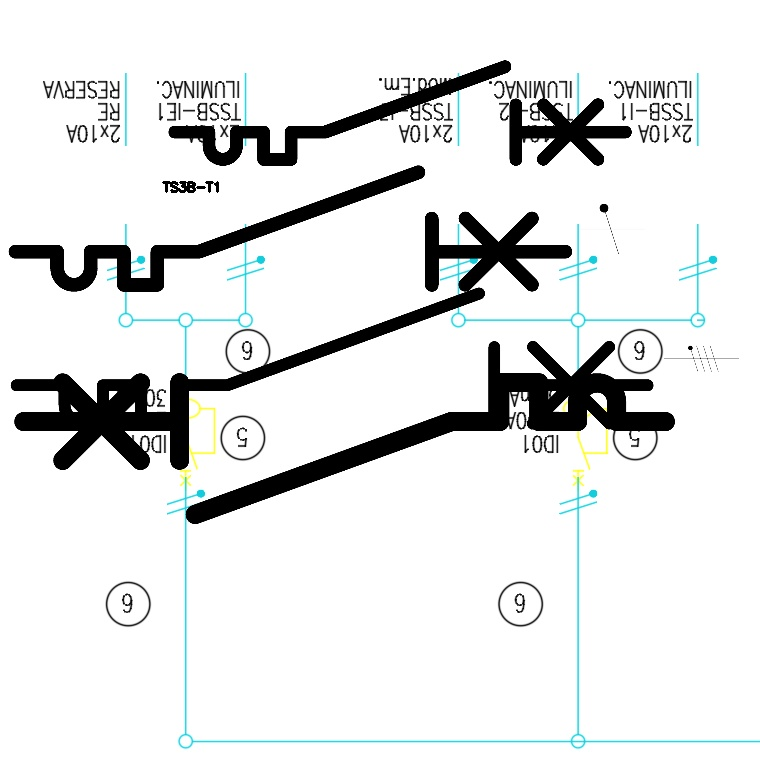interruptor_termomagnetico: (7, 366, 682, 531), (0, 277, 664, 440), (1, 158, 579, 299), (163, 55, 637, 171)
